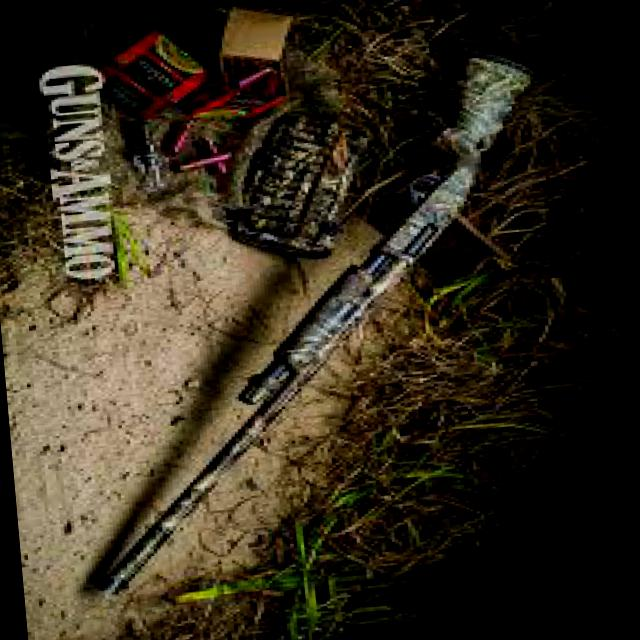long weapon: (68, 25, 583, 615)
